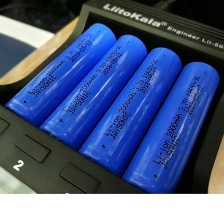battery: (73, 43, 185, 179), (2, 18, 117, 142), (34, 31, 150, 152), (122, 57, 220, 200)
